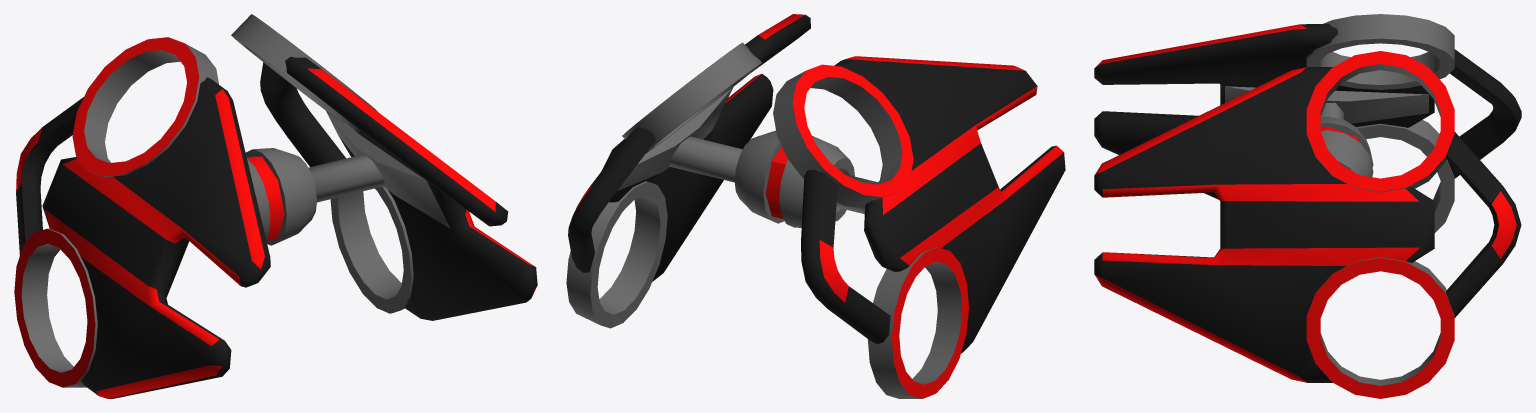
Rendered from Attack_Drone.FBX.
3 views of the same model, side by side, from view 1: azimuth 30°, elevation 25°; view 2: azimuth 150°, elevation 25°; view 3: azimuth 270°, elevation 25° (orthographic). The views are drawn at different scales.
Parts seen in each view (by area): view 1: Object002; view 2: Object002; view 3: Object002.
Part boxes in pixels (<box>): Object002: <box>14,14,537,398</box>; Object002: <box>566,14,1065,398</box>; Object002: <box>1094,14,1521,398</box>.
Size of the model in its own units: 45.94 by 38.73 by 51.42.
